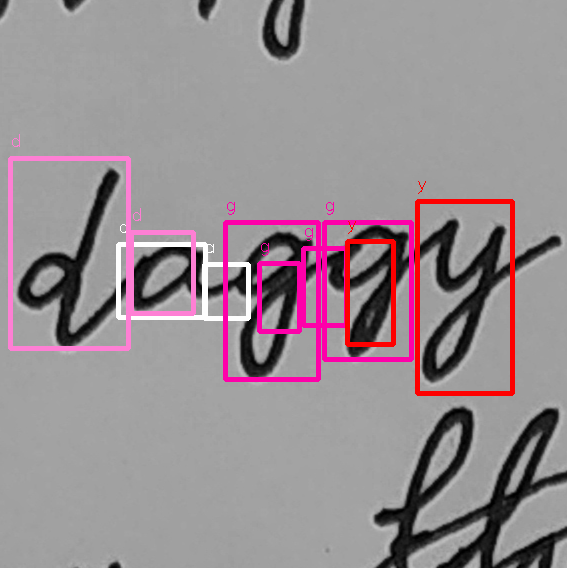a: (118, 234, 211, 314)
d: (12, 162, 125, 351)
g: (225, 222, 320, 385), (323, 218, 415, 364)
y: (417, 211, 509, 389)
